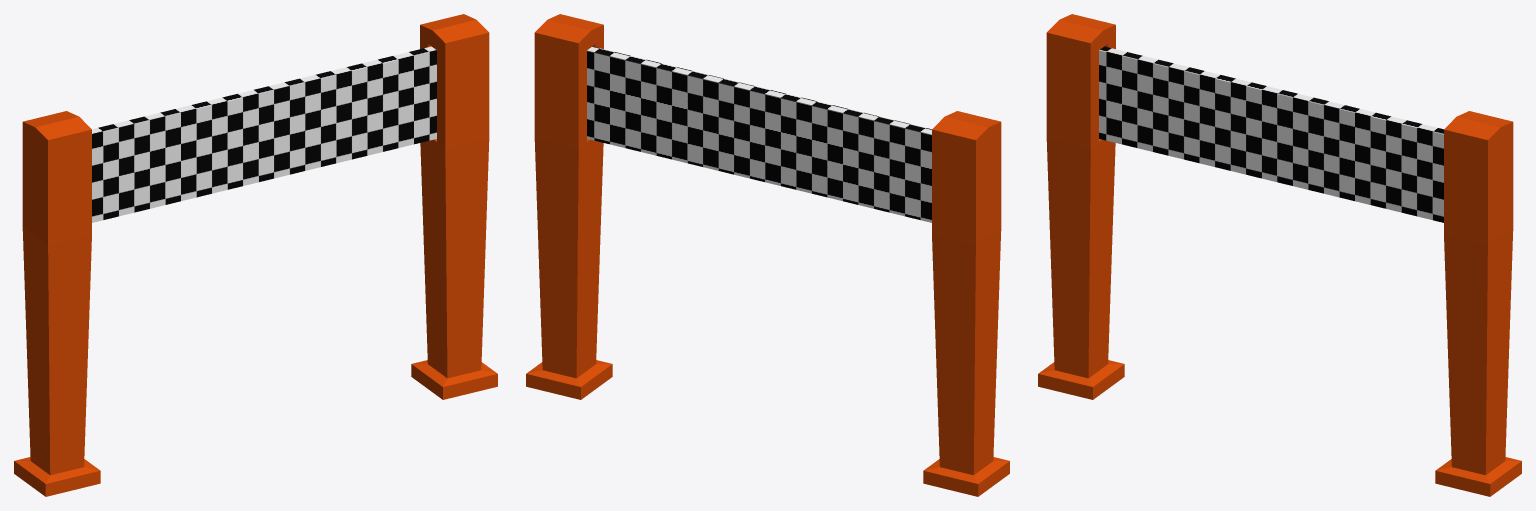
The model's file is FinishLine.fbx.
3 renders of one model, left to right at view 1: azimuth 30°, elevation 25°; view 2: azimuth 150°, elevation 25°; view 3: azimuth 330°, elevation 25°, orthographic.
Parts seen in each view (by area): view 1: Beams, Flag; view 2: Beams, Flag; view 3: Beams, Flag.
Part boxes in pixels (bbox=[...]): Beams: bbox=[14, 14, 497, 496]; Flag: bbox=[92, 46, 436, 222]; Beams: bbox=[526, 14, 1009, 496]; Flag: bbox=[587, 46, 931, 222]; Beams: bbox=[1038, 14, 1521, 496]; Flag: bbox=[1099, 46, 1443, 222].
Bounding box in the file's own units: 976 × 736 × 118.
